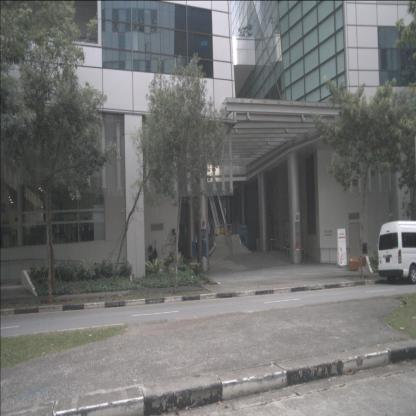vehicle-car: (378, 220, 416, 284)
